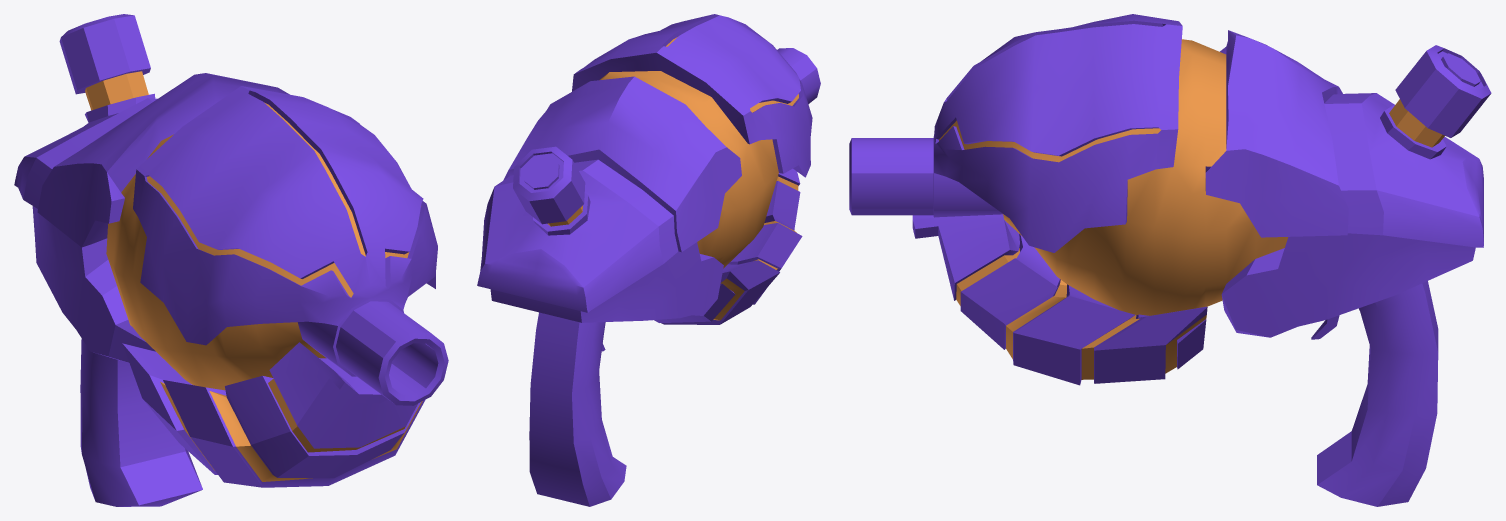
Rendered from DefaultGunTemp.fbx.
The picture shows the model from 3 angles, left to right: view 1: azimuth 30°, elevation 25°; view 2: azimuth 150°, elevation 25°; view 3: azimuth 270°, elevation 25°; orthographic projection. The views are drawn at different scales.
Visible parts, largest first — view 1: TempDeafultGun; view 2: TempDeafultGun; view 3: TempDeafultGun.
Boxes of the visible parts, x1=… form: TempDeafultGun: x1=14, y1=14, x2=448, y2=506; TempDeafultGun: x1=477, y1=14, x2=820, y2=506; TempDeafultGun: x1=849, y1=14, x2=1491, y2=506.
Size of the model in its own units: 29.54 by 52.99 by 65.55.
